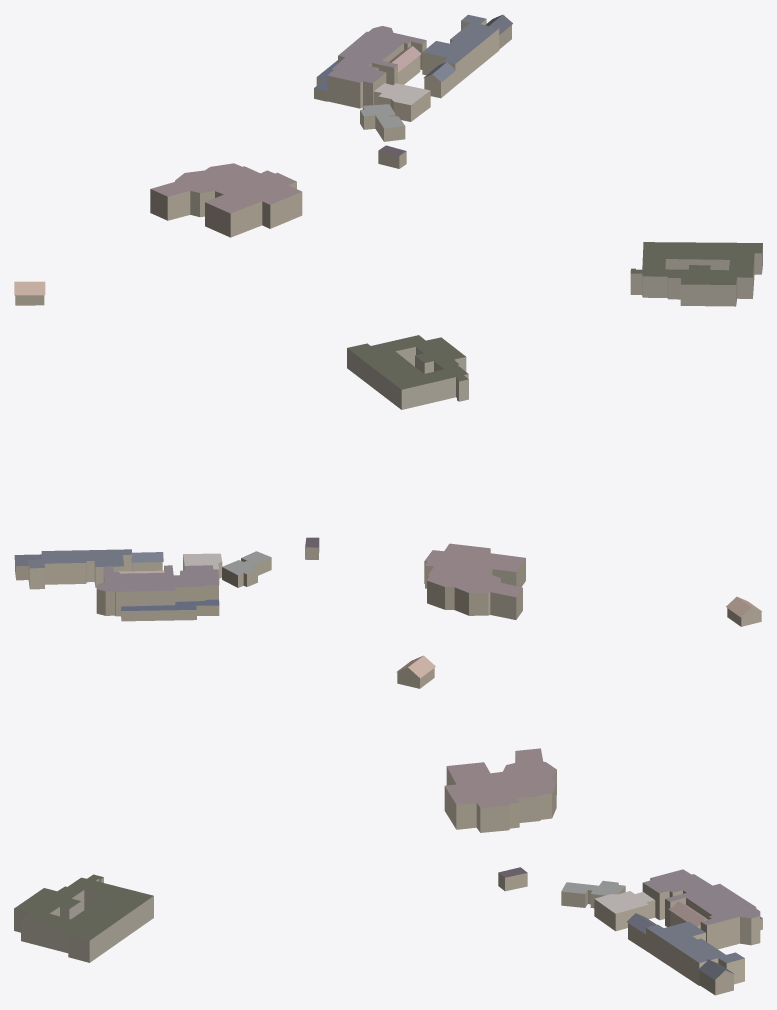
The picture shows the model from 3 angles, top to bottom: view 1: azimuth 30°, elevation 25°; view 2: azimuth 150°, elevation 25°; view 3: azimuth 270°, elevation 25°; orthographic projection. The views are drawn at different scales.
Visible parts, largest first — view 1: tuile; view 2: tuile; view 3: tuile.
Part boxes in pixels (x1,y1,x2,y2): tuile: [14, 14, 762, 306]; tuile: [14, 335, 762, 626]; tuile: [14, 655, 762, 995].
Bounding box in the file's own units: 229 × 10.94 × 222.
